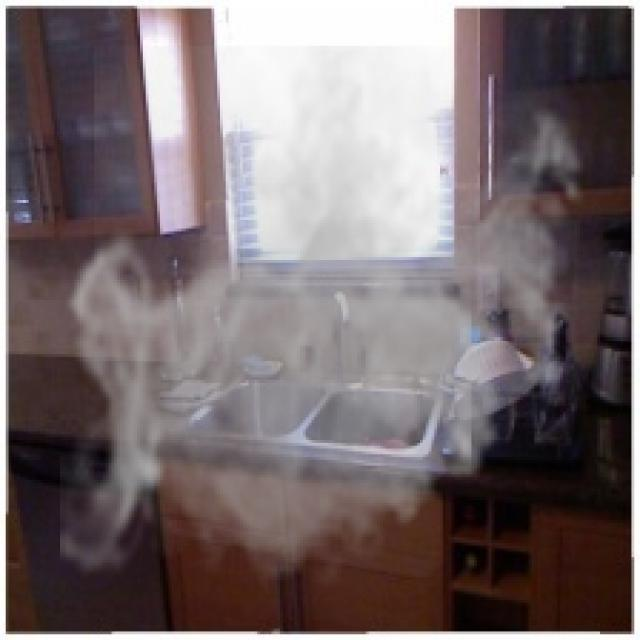Smoke: (60, 45, 600, 600)
